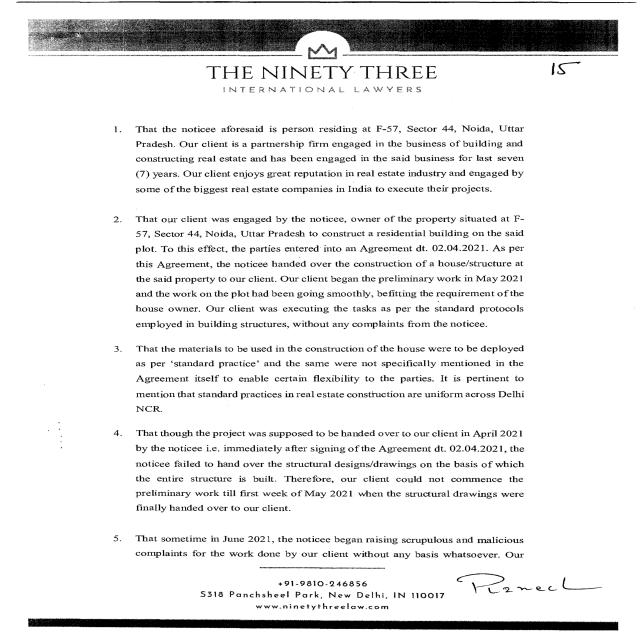page-number: (443, 59, 633, 123)
